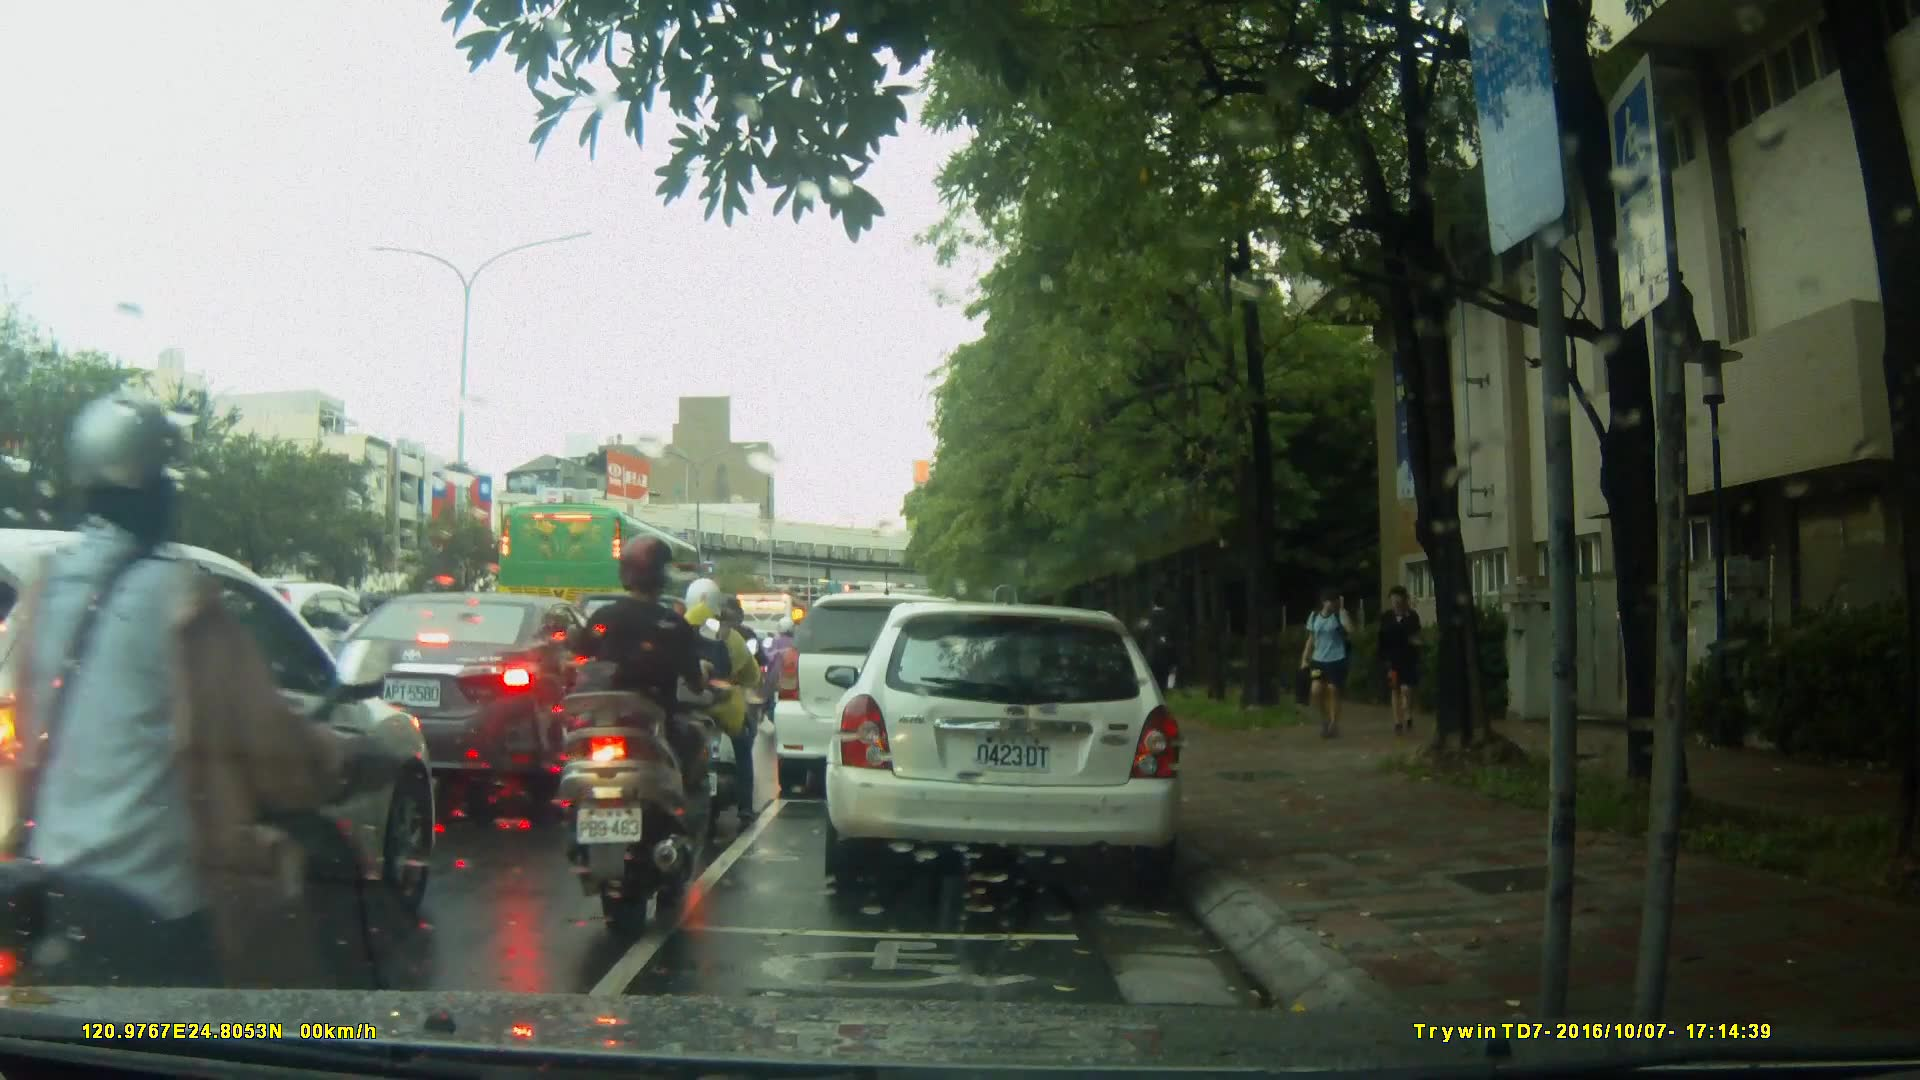pedestrian: (1290, 584, 1365, 745), (1378, 579, 1431, 743), (1133, 592, 1182, 744)
rider: (5, 381, 410, 1080), (557, 534, 708, 923), (669, 573, 762, 827), (759, 617, 812, 716)
vehicle: (1, 529, 445, 986), (831, 592, 1196, 897), (312, 590, 648, 807), (770, 592, 999, 801), (495, 502, 707, 638)
